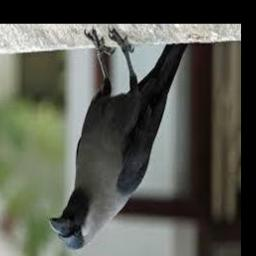Crow: (49, 27, 189, 251)
